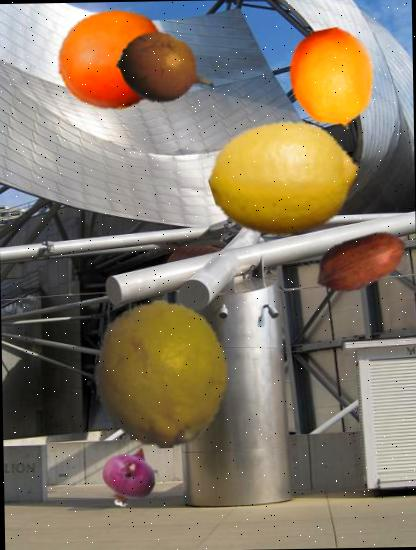Apricot: (55, 3, 169, 118)
Granadilla: (116, 21, 218, 121)
Lemon: (84, 298, 235, 450), (209, 102, 360, 253), (280, 28, 384, 132)
Nut: (311, 213, 412, 314)
Onion: (97, 444, 161, 508)
